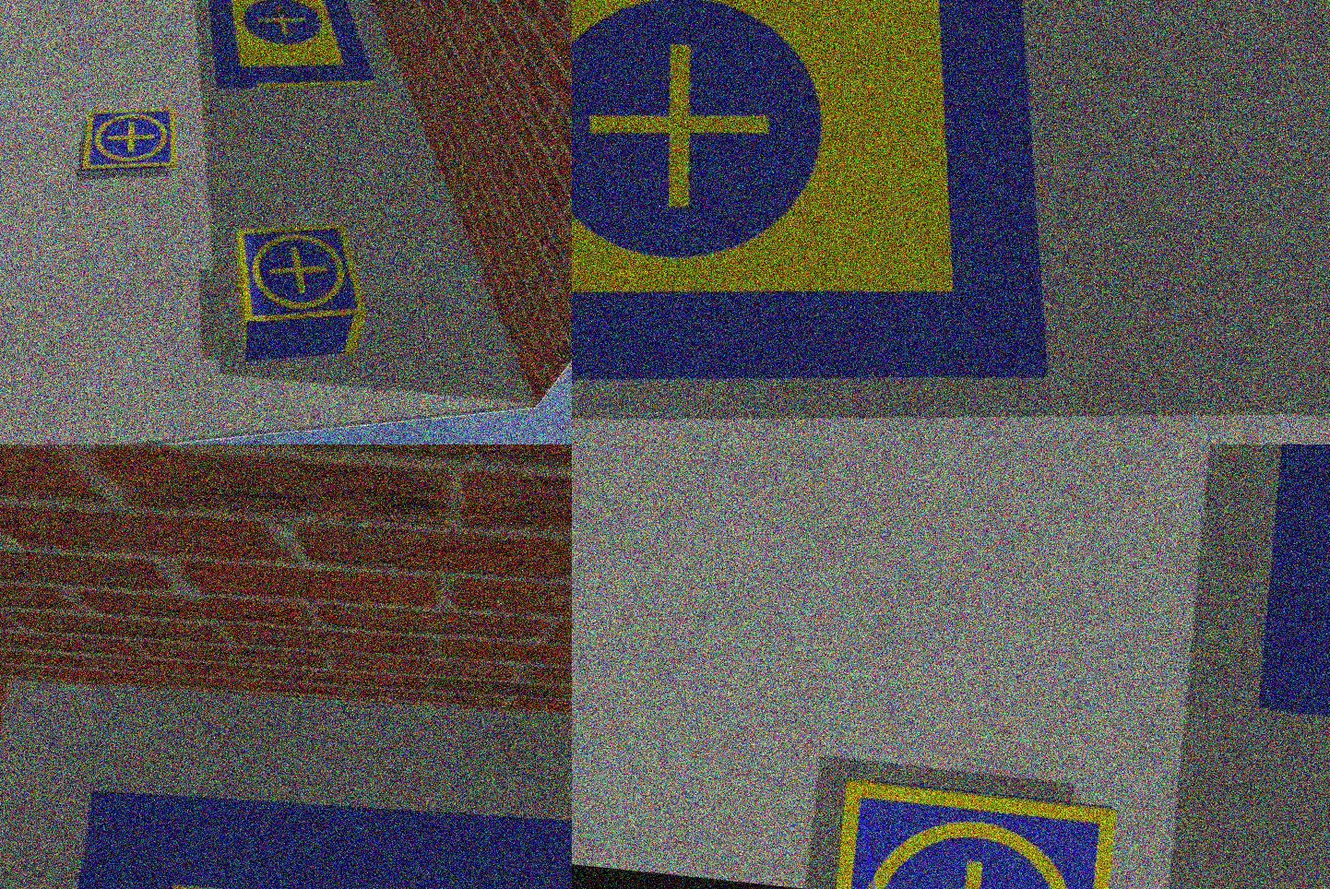large_base: (573, 1, 1100, 445), (40, 754, 573, 889), (1249, 445, 1330, 724), (200, 1, 386, 100)
small_base: (830, 776, 1118, 889), (225, 213, 380, 345), (77, 100, 185, 184)
